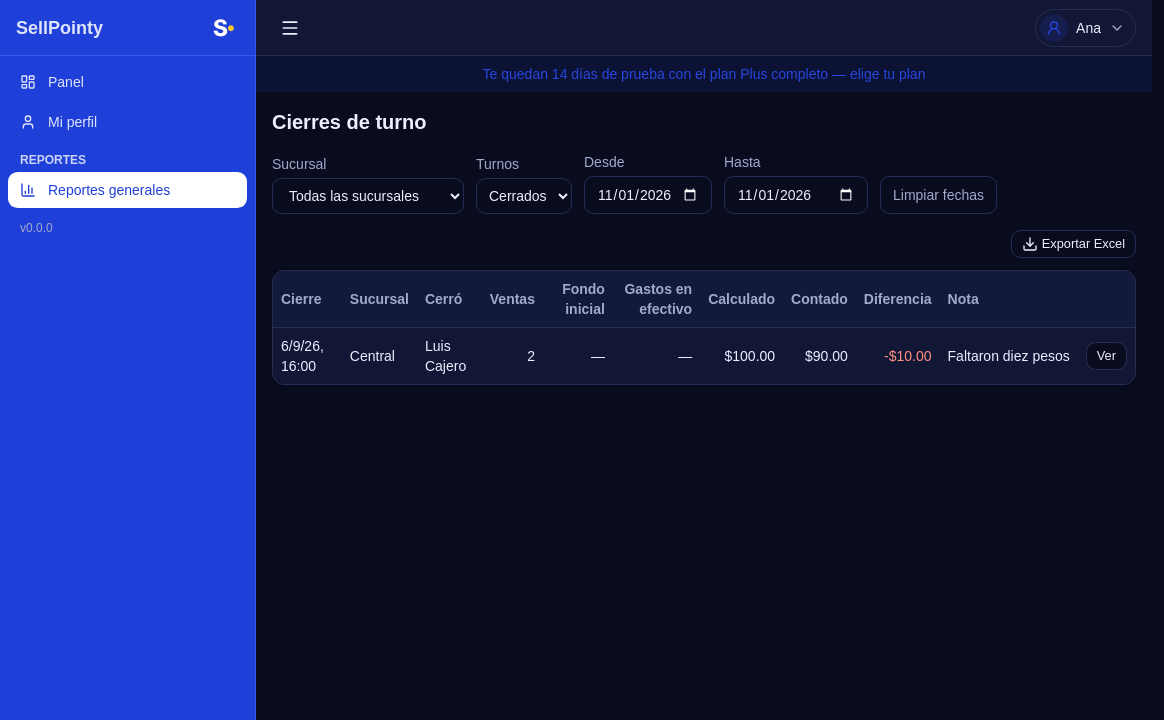
Test: Pantallas de reporte (F5-STK-04 / F5-SALES-03) › cierres de turno (F5-SHIFT-04) › «Ver» despliega las ventas del turno debajo
Expected: the text "Faltaron diez pesos" is shown, 948,346 -> 1070,366
Click the button with aria-label "ver turno". click: x=1106, y=356
box: 1086,342 -> 1127,370
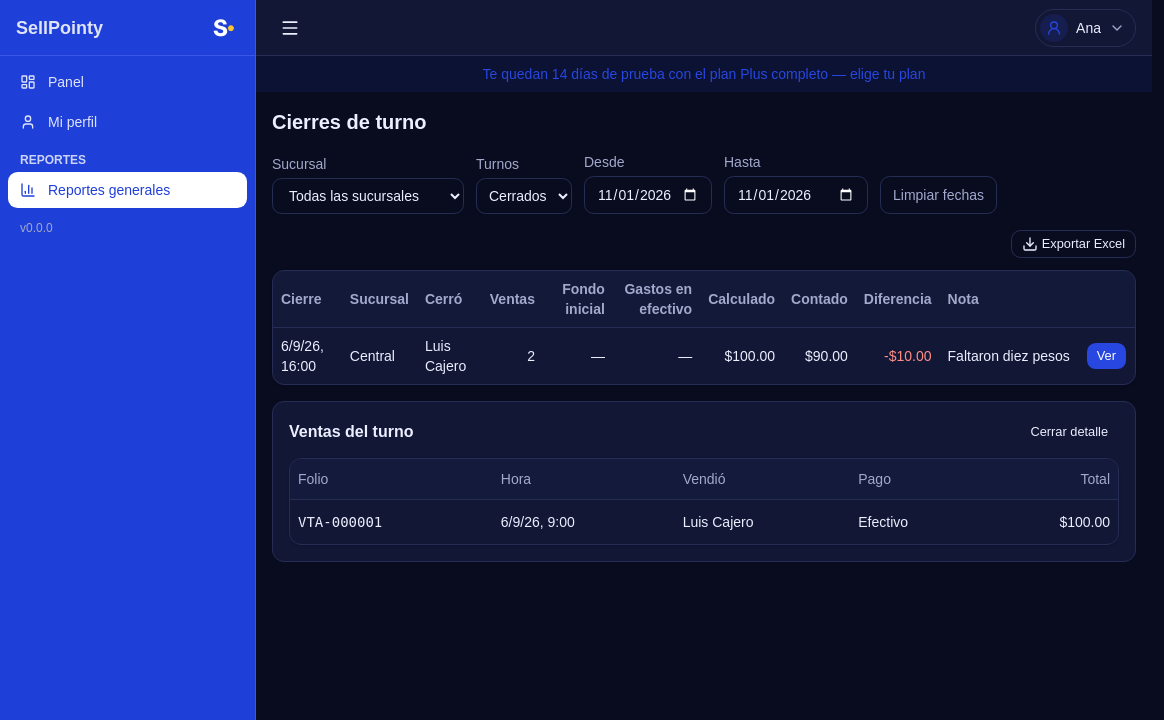
Expected: the text "VTA-000001" is shown, 290,499 -> 493,544
